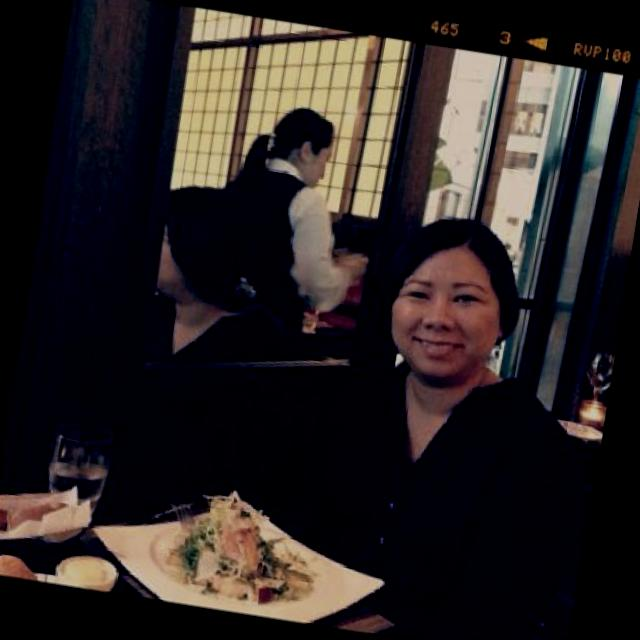Person: (210, 185, 628, 640), (198, 96, 392, 368), (144, 180, 308, 382)
